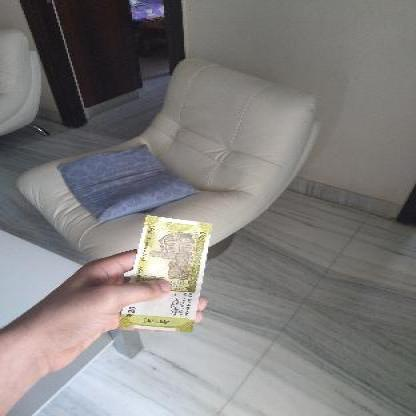New20Back: (117, 216, 203, 332)
